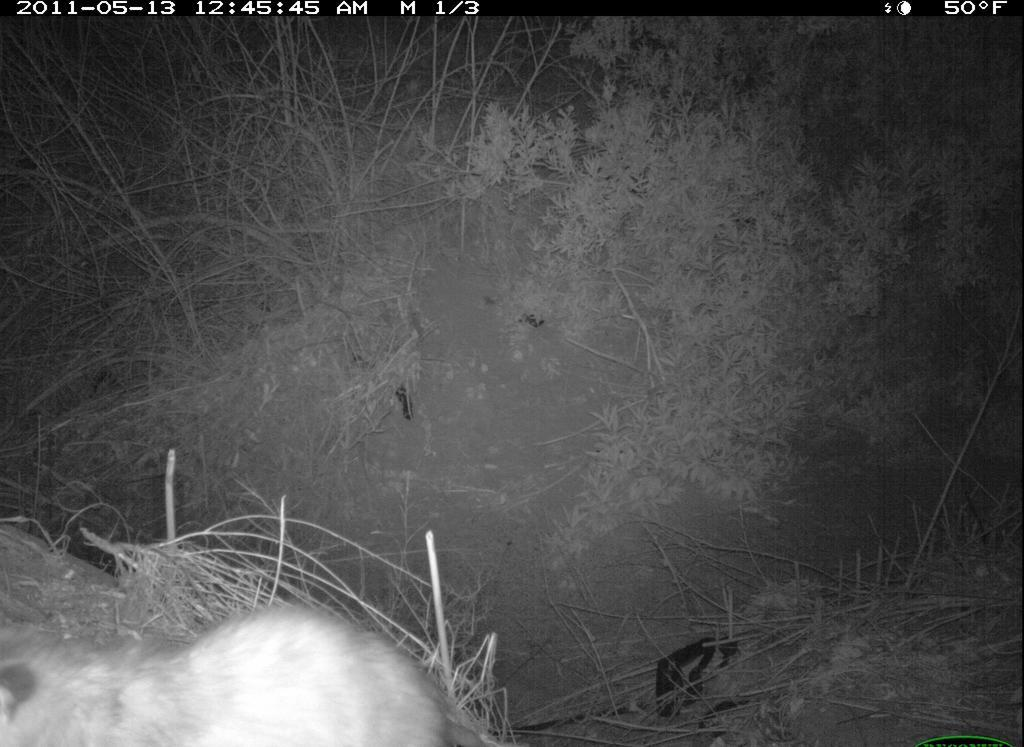opossum: (3, 594, 496, 745)
